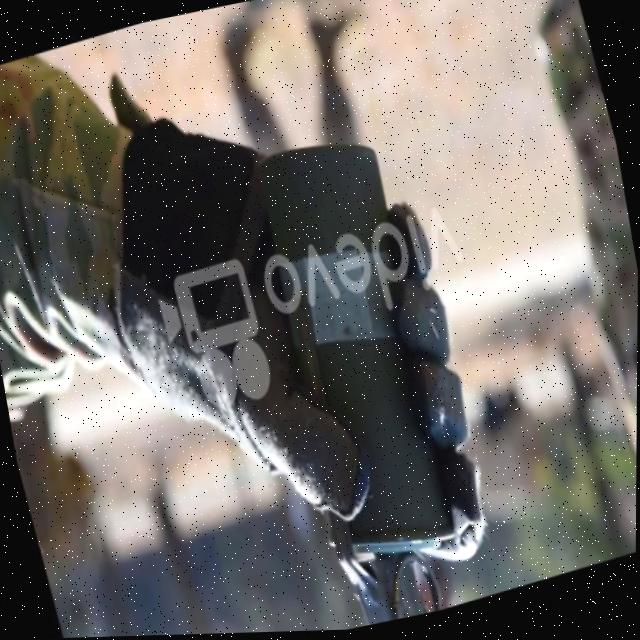grenade: (229, 118, 501, 635)
